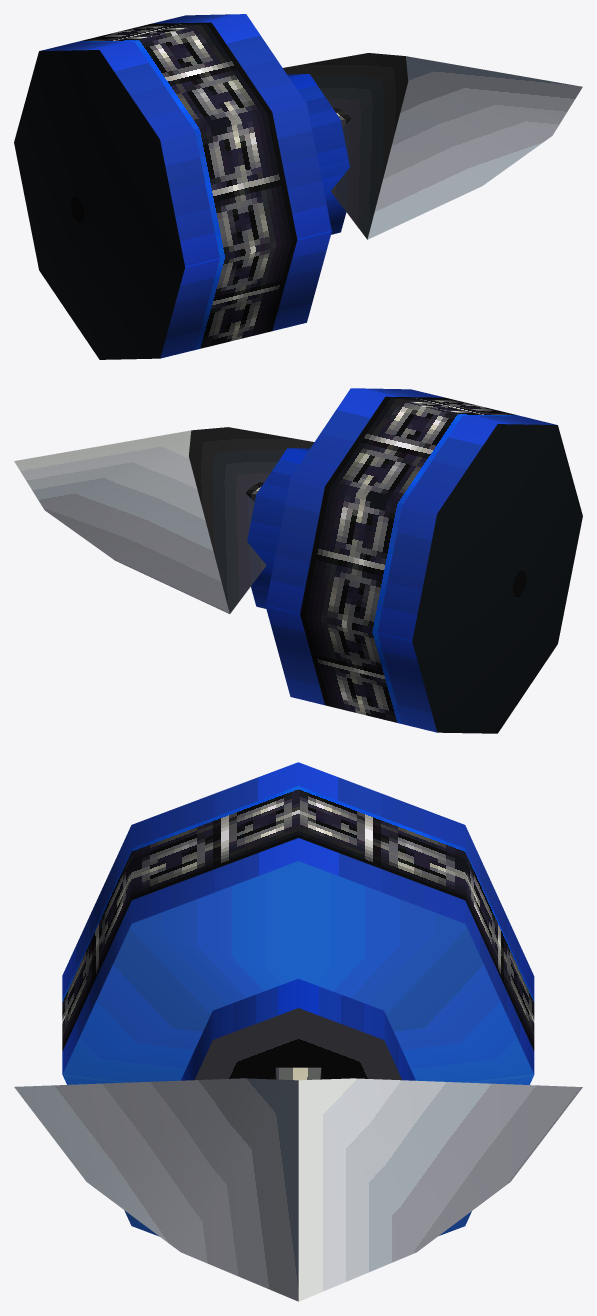
File: HookshotTip.obj
The picture shows the model from 3 angles, top to bottom: view 1: azimuth 30°, elevation 25°; view 2: azimuth 150°, elevation 25°; view 3: azimuth 270°, elevation 25°; orthographic projection. The views are drawn at different scales.
Bounding box in the file's own units: 0.2837 × 0.1656 × 0.1996.
1 material, 1 textured.
